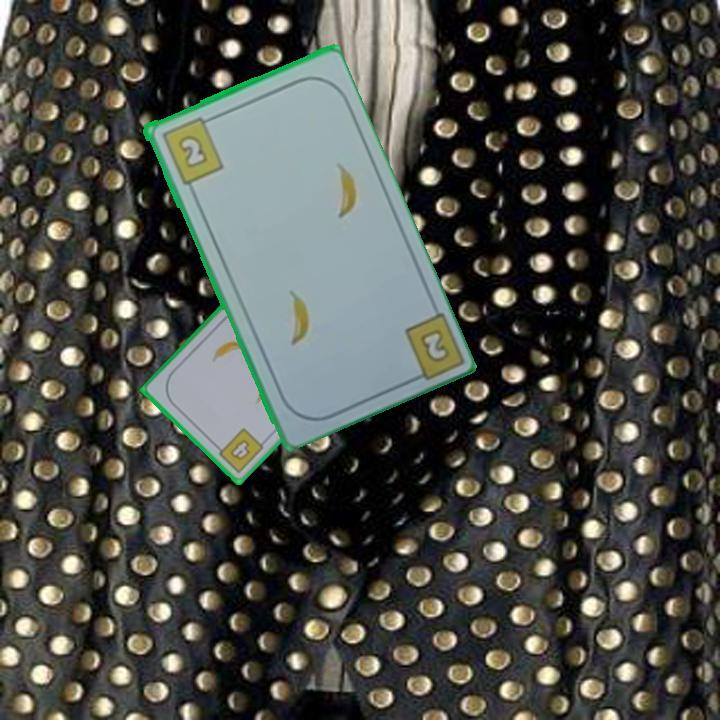2b: (158, 113, 226, 187), (415, 325, 449, 362)
4b: (211, 425, 267, 476)
